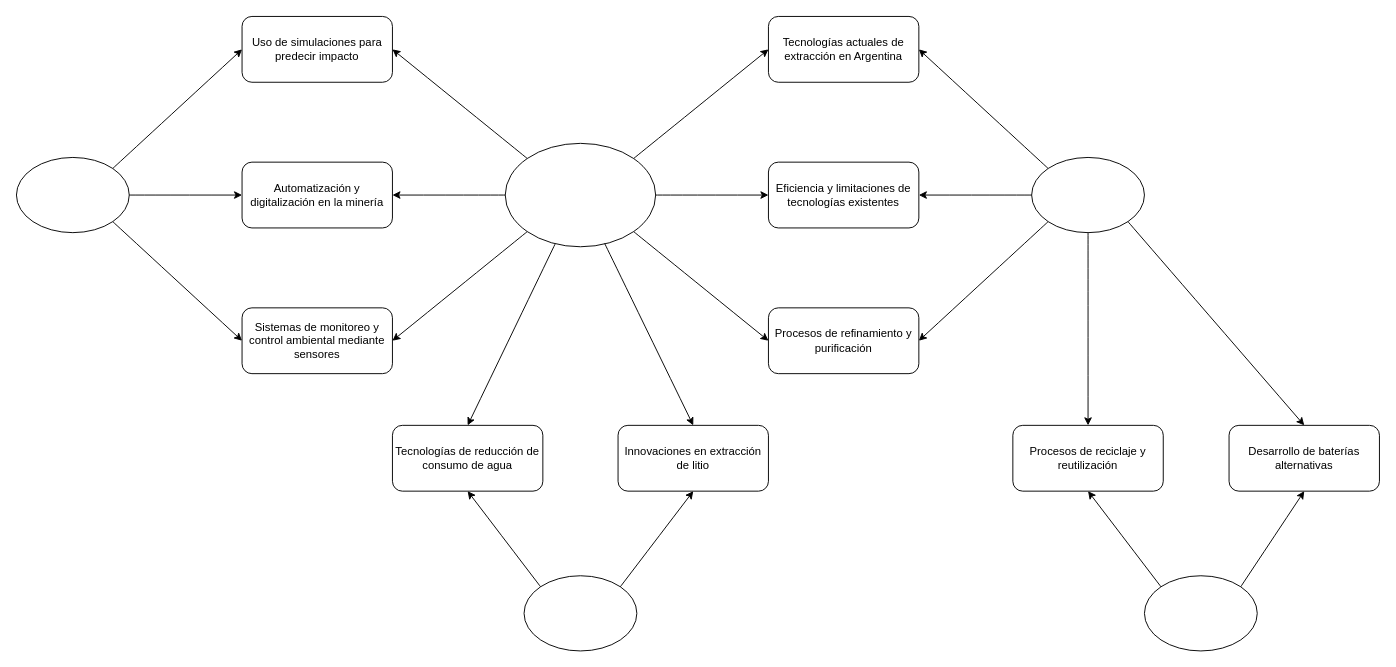
Image size: 1396x667. Some labels were removed from this diagram. Here are the shapes that lost their labels. From the top down, the centre of each, then its label:
(72,195): Control
(580,194): Analisis tecnologico de la minería de litio en Argentina
(1087,195): Investigación
(580,613): Innovacion
(1200,613): Baterias
